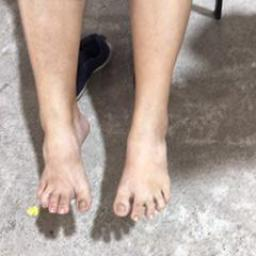Front View -Both Feet-: (26, 80, 191, 225)
